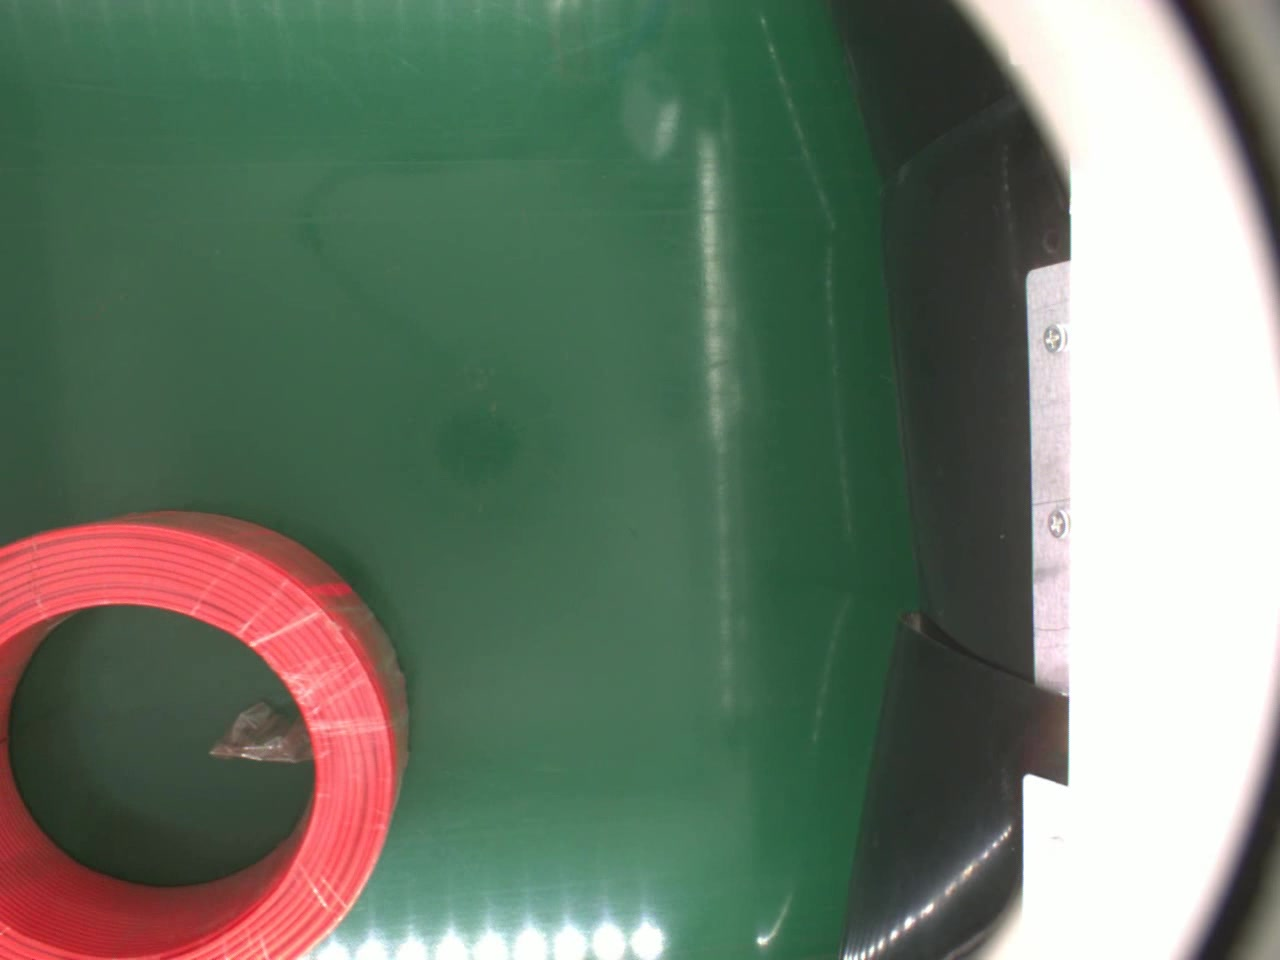red: (0, 508, 414, 960)
